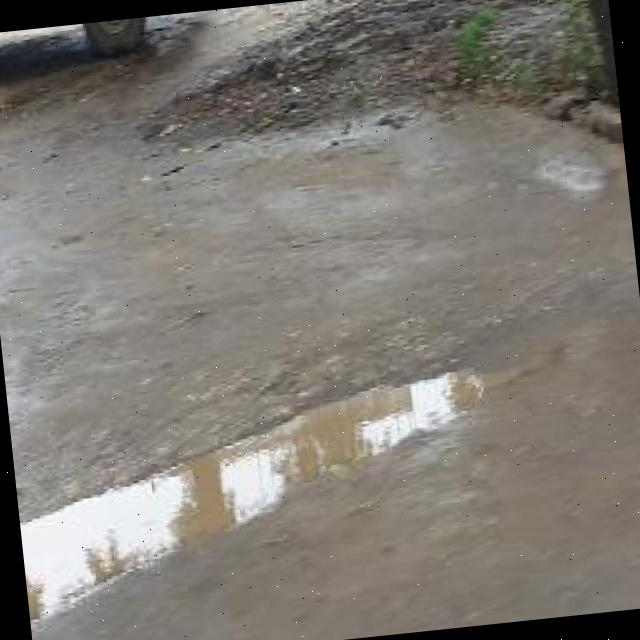waterlogging: (4, 317, 598, 640)
